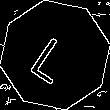L_NE: (28, 26, 82, 84)
